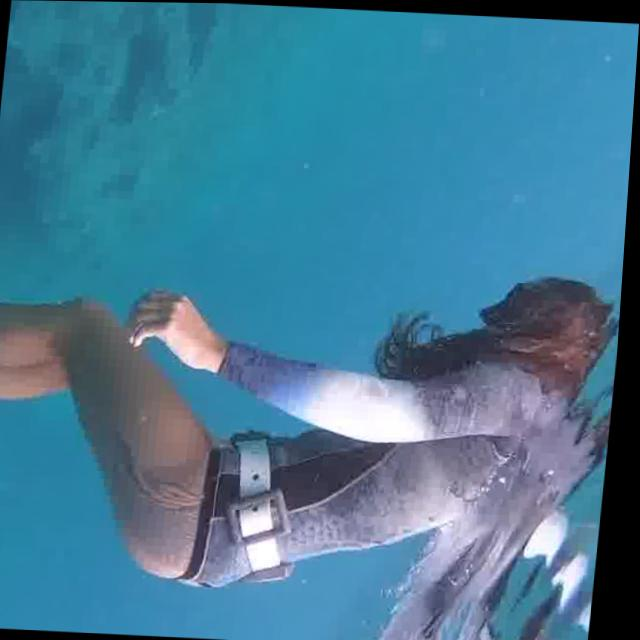human: (0, 234, 628, 625)
